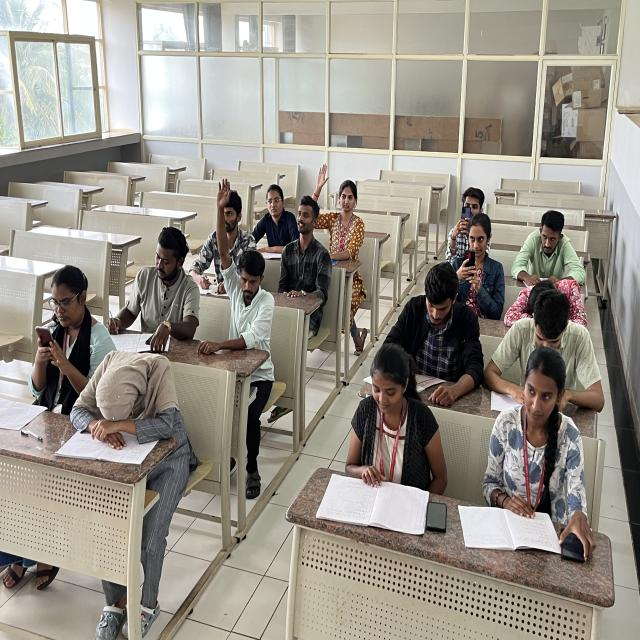Hand Rising: (208, 159, 276, 364), (315, 130, 377, 261)
Reading: (311, 340, 427, 518), (478, 294, 602, 414), (388, 266, 491, 397)
Sleeping: (81, 322, 193, 478), (507, 272, 591, 324)
Using Phone: (21, 269, 106, 408), (452, 216, 516, 301), (443, 178, 497, 250)
Writing: (105, 216, 204, 354), (178, 174, 251, 290)
